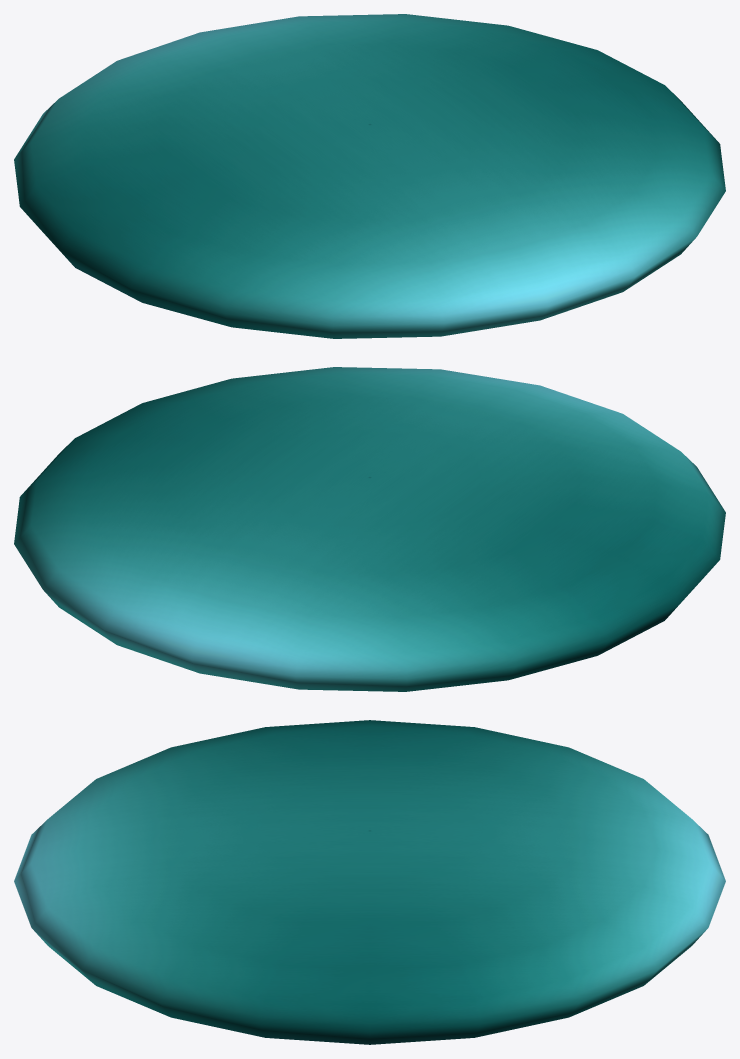
The model's file is stage.FBX.
3 renders of one model, top to bottom at view 1: azimuth 30°, elevation 25°; view 2: azimuth 150°, elevation 25°; view 3: azimuth 270°, elevation 25°, orthographic.
Visible parts, largest first — view 1: Sphere001; view 2: Sphere001; view 3: Sphere001.
Part boxes in pixels (x1,y1,x2,y2): Sphere001: (14, 14, 725, 338); Sphere001: (14, 367, 725, 691); Sphere001: (14, 720, 725, 1044).
Size of the model in its own units: 300 by 58.08 by 300.
7 materials, 7 textured.
